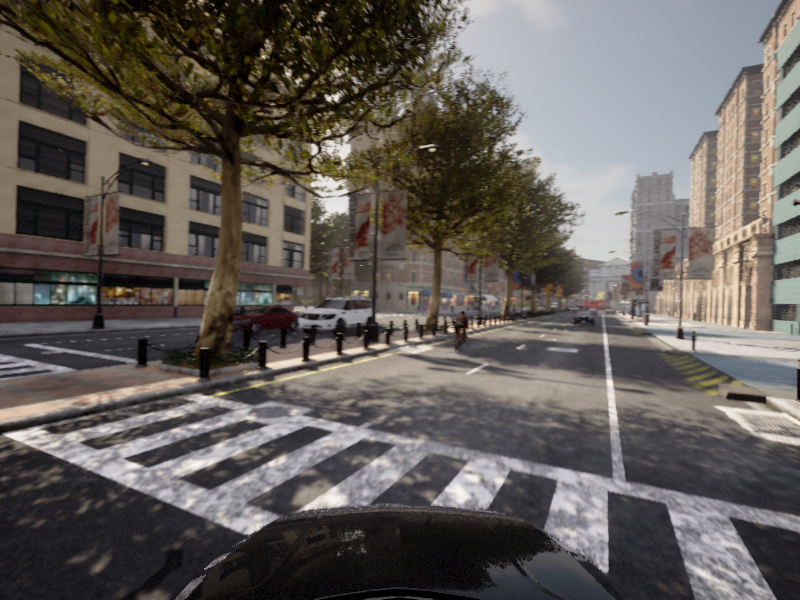vehicle: (293, 295, 379, 338), (218, 305, 307, 335), (446, 310, 474, 353), (573, 311, 595, 326)
